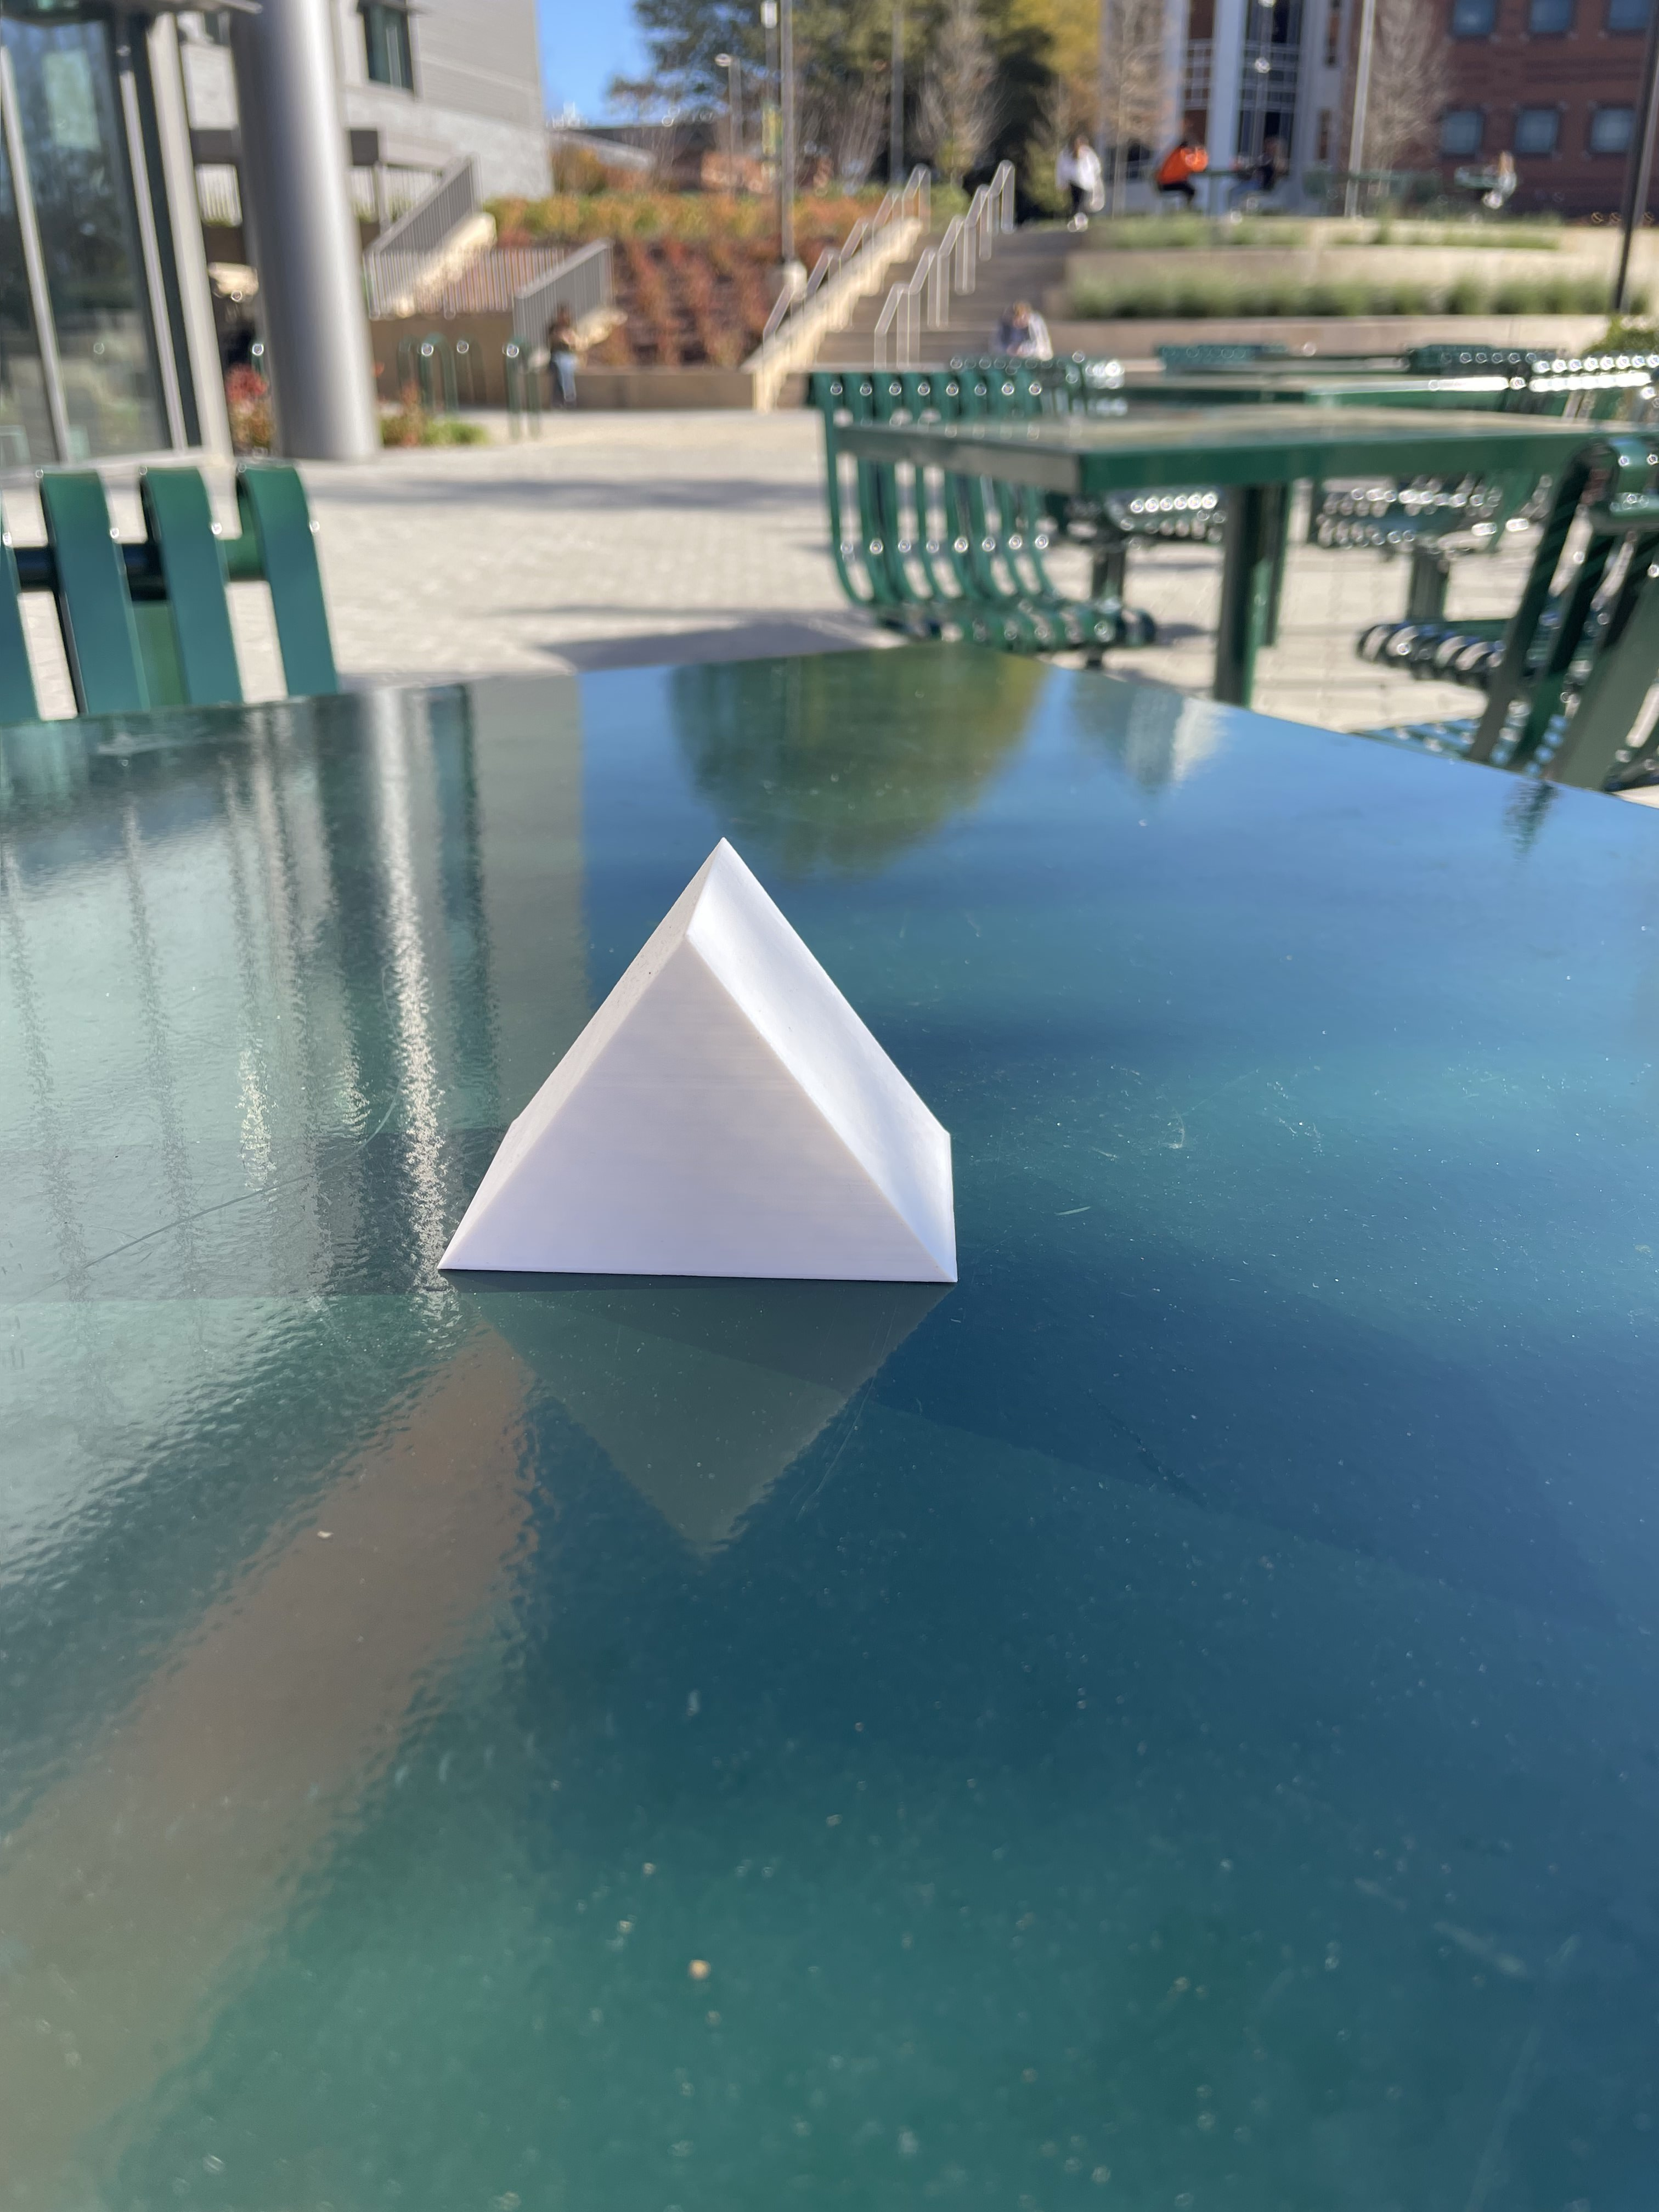payload2: (350, 777, 1019, 1409)
